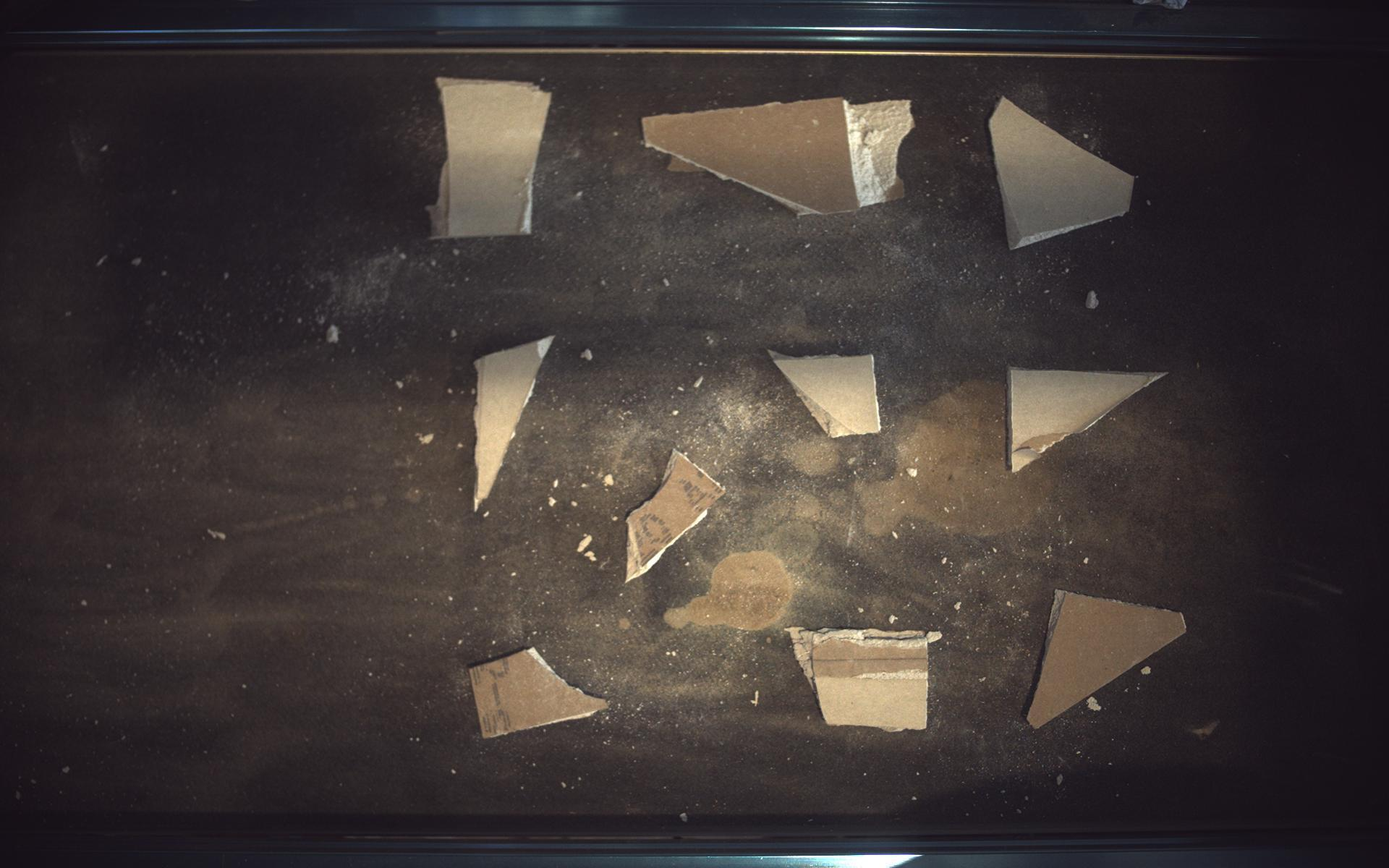gypsum_board: (644, 96, 915, 214), (991, 96, 1137, 249), (1029, 591, 1189, 729), (427, 77, 551, 237), (1008, 367, 1168, 472), (789, 628, 943, 732), (474, 336, 555, 511), (627, 449, 726, 583), (470, 649, 608, 739), (770, 349, 882, 438)
